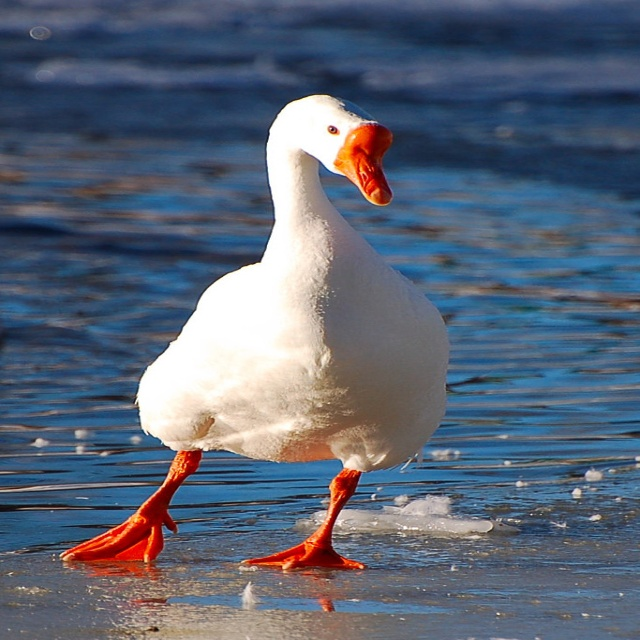Goose: (60, 91, 447, 571)
